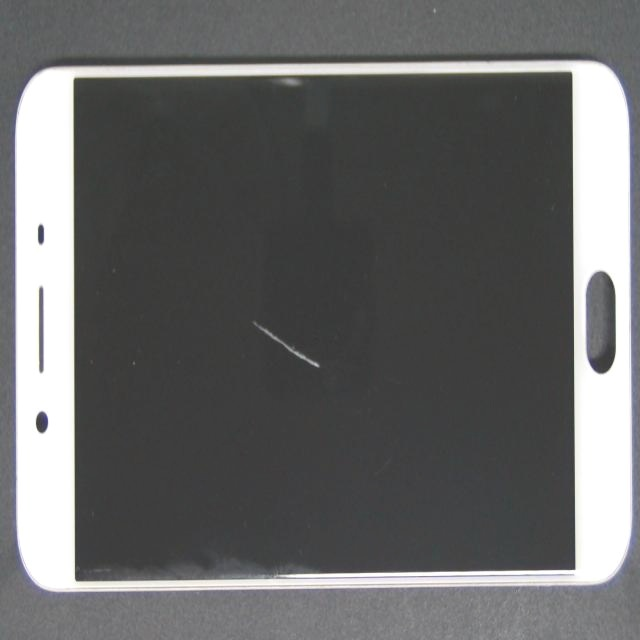scratch: (115, 109, 379, 479)
